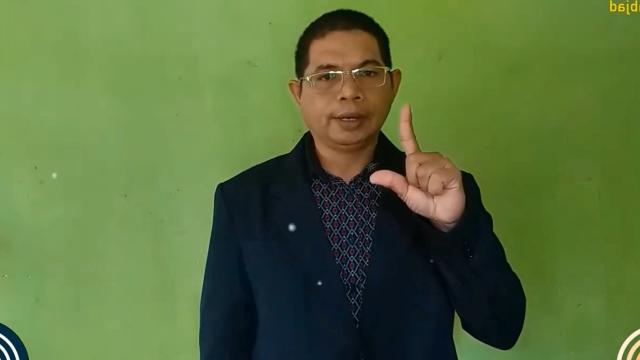L: (368, 100, 464, 219)
